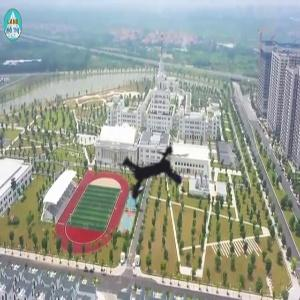drone: (89, 105, 226, 242)
